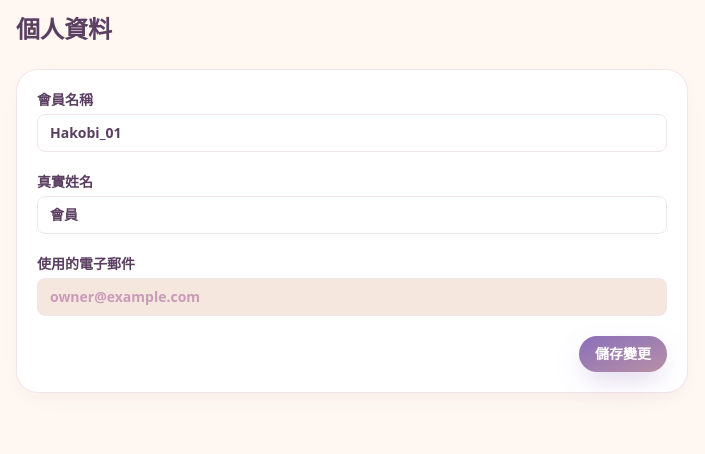
Test: Profile view › rejects invalid fields without sending an update
Replace the text in the field with test id "profile-username" with "ab" at {"x": 352, "y": 133}, box 37,114 -> 667,152
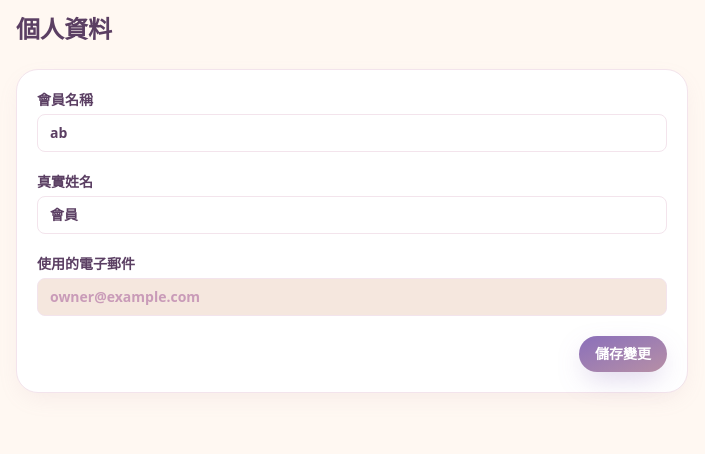
Replace the text in the field with test id "profile-display-name" with "王 小明" at {"x": 352, "y": 215}, box 37,196 -> 667,234
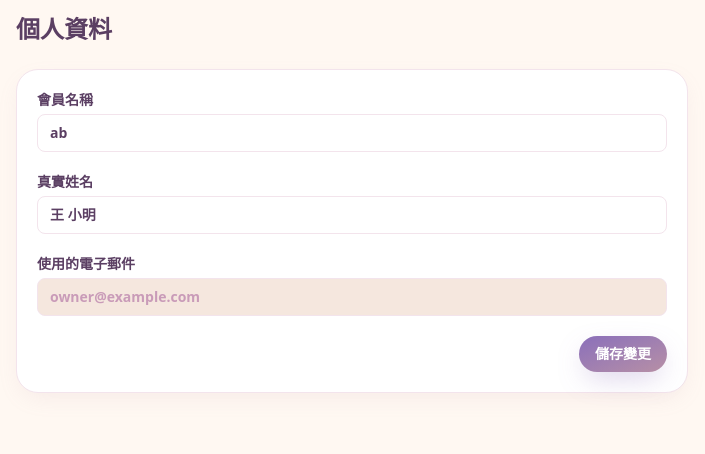
Submit the form, box 37,90 -> 667,372
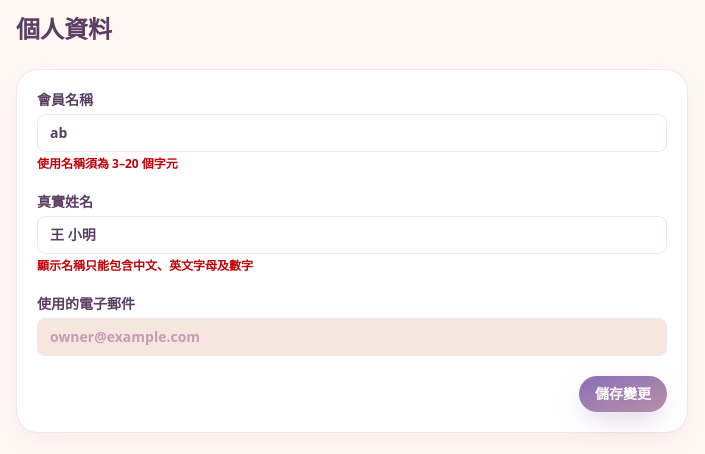
Result: the text "使用名稱須為 3–20 個字元" is shown at 37,155 -> 178,172
Result: the text "顯示名稱只能包含中文、英文字母及數字" is shown at 37,257 -> 253,274
